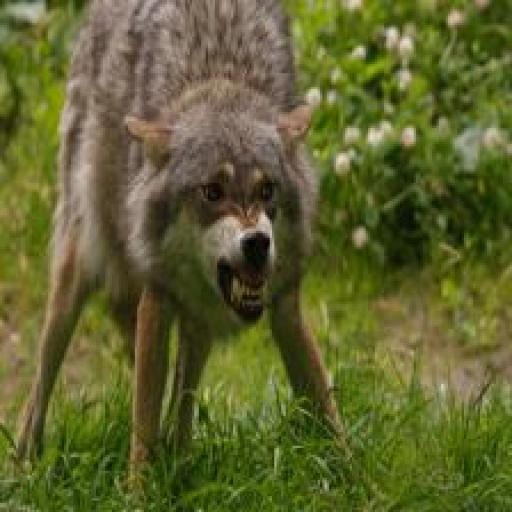wolf: (16, 0, 359, 505)
